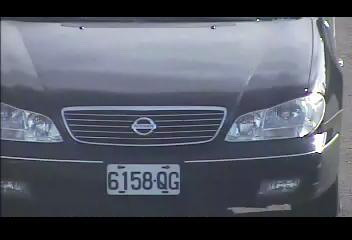plate: (104, 162, 180, 197)
